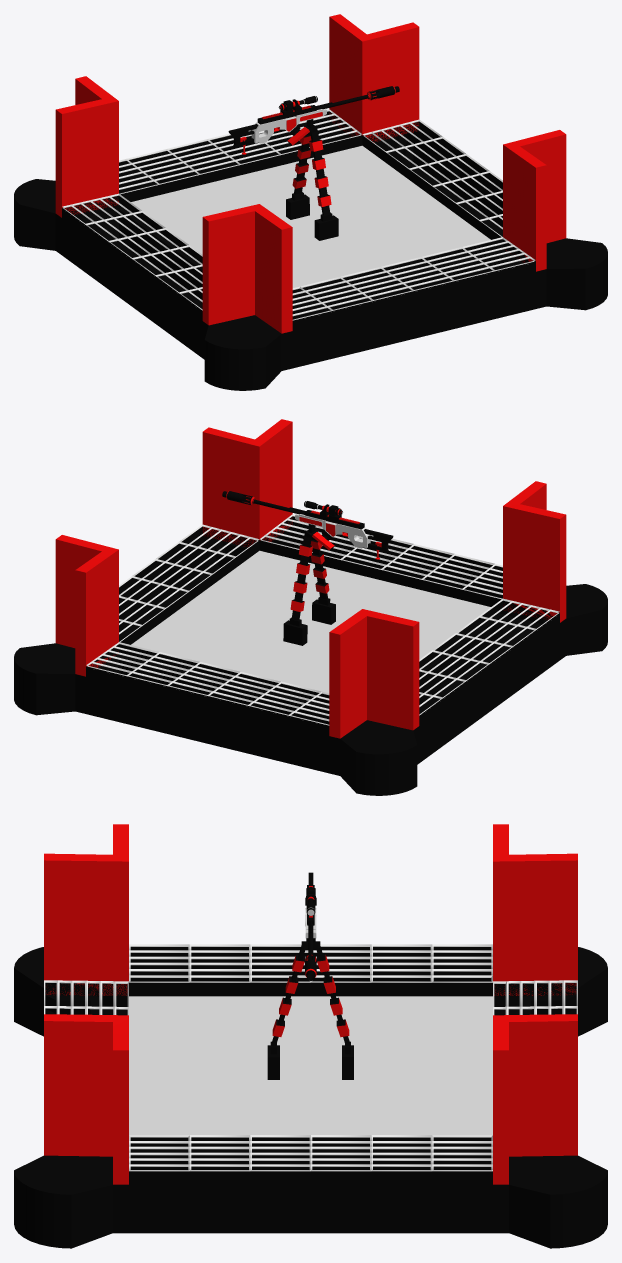
File: Sci Fi Sniper platform origin fixed.fbx
3 views of the same model, one above another, from view 1: azimuth 30°, elevation 25°; view 2: azimuth 150°, elevation 25°; view 3: azimuth 270°, elevation 25° (orthographic). The views are drawn at different scales.
Visible parts, largest first — view 1: PLatform, Cube.002, Gun Stand, Gun Main, Cylinder; view 2: PLatform, Cube.002, Gun Stand, Gun Main, Cylinder; view 3: PLatform, Cube.002, Gun Stand.
Boxes of the visible parts, left/top/right/bottom form: PLatform: left=14, top=14, right=607, bottom=390; Cube.002: left=62, top=109, right=535, bottom=320; Gun Stand: left=286, top=119, right=338, bottom=240; Gun Main: left=251, top=108, right=326, bottom=143; Cylinder: left=317, top=86, right=399, bottom=109; PLatform: left=14, top=419, right=607, bottom=795; Cube.002: left=86, top=514, right=559, bottom=725; Gun Stand: left=283, top=524, right=335, bottom=645; Gun Main: left=295, top=513, right=370, bottom=548; Cylinder: left=222, top=491, right=304, bottom=514; PLatform: left=14, top=824, right=607, bottom=1248; Cube.002: left=44, top=944, right=577, bottom=1171; Gun Stand: left=267, top=938, right=353, bottom=1079.
Bounding box in the file's own units: 400 × 163 × 400.
